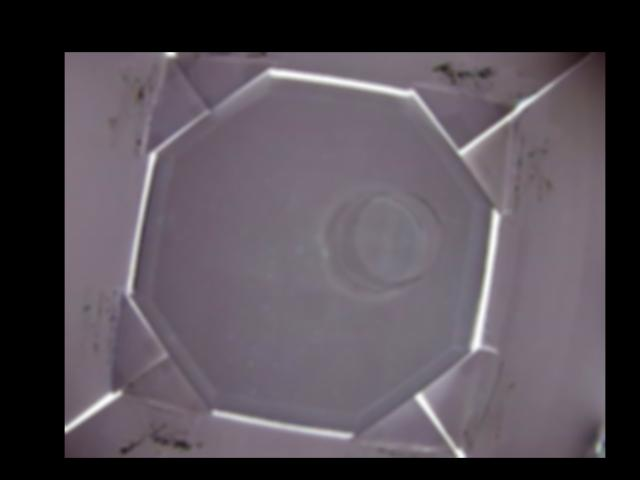Cup: (319, 189, 443, 295)
